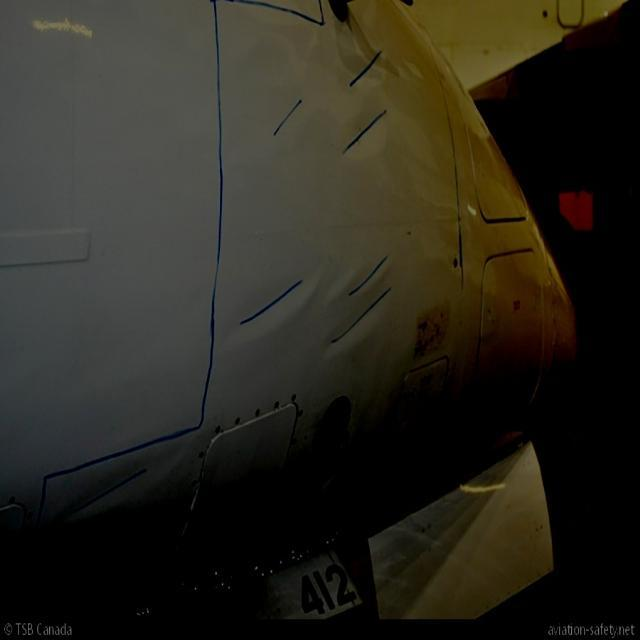dent: (338, 115, 395, 156)
